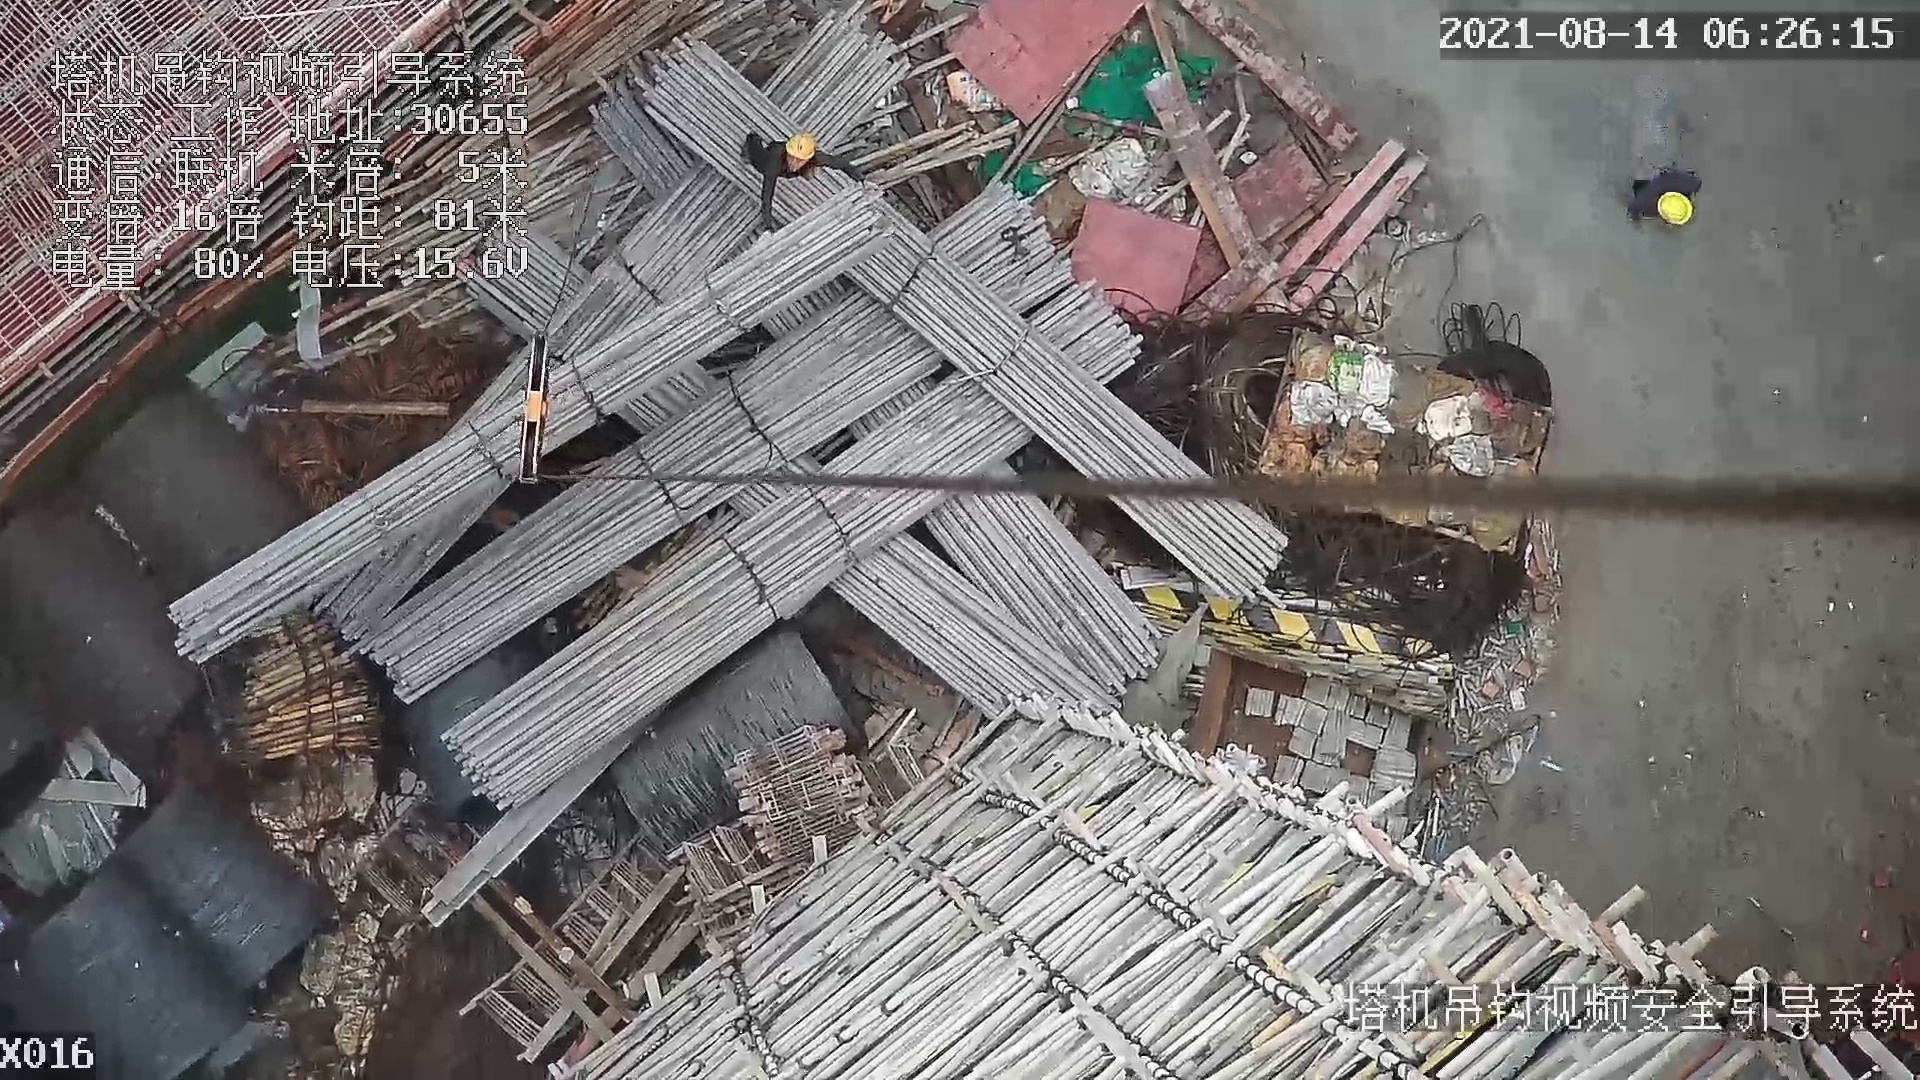helmet: (1658, 187, 1695, 230), (780, 135, 814, 165)
hook: (512, 333, 564, 490)
person: (733, 135, 865, 242), (1629, 165, 1720, 240)
